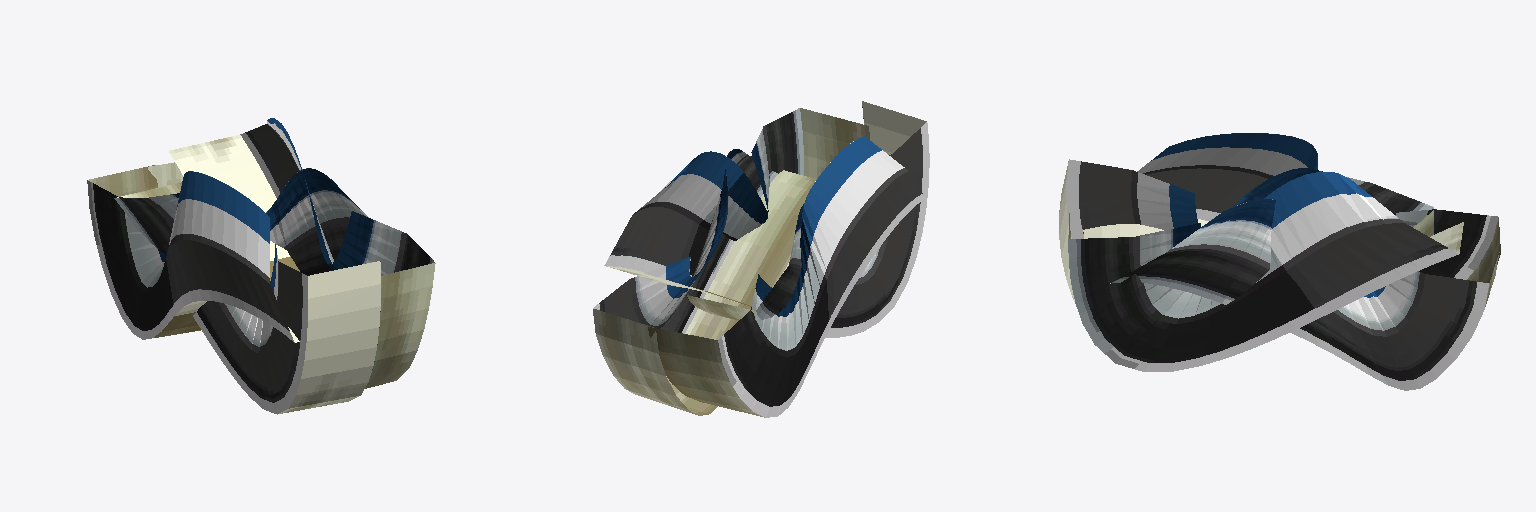
The picture shows the model from 3 angles: view 1: azimuth 30°, elevation 25°; view 2: azimuth 150°, elevation 25°; view 3: azimuth 270°, elevation 25°; orthographic projection.
Parts seen in each view (by area): view 1: polygon3, polygon2, polygon0, polygon1; view 2: polygon3, polygon1, polygon0, polygon2; view 3: polygon0, polygon1, polygon3, polygon2.
Part boxes in pixels (x1,y1,x2,y2): polygon3: (87, 165, 299, 342); polygon2: (114, 182, 380, 414); polygon0: (169, 118, 435, 388); polygon1: (148, 162, 368, 275); polygon3: (648, 136, 925, 417); polygon1: (593, 149, 816, 415); polygon0: (604, 108, 869, 306); polygon2: (686, 101, 929, 337); polygon0: (1068, 171, 1463, 371); polygon1: (1110, 199, 1499, 390); polygon3: (1083, 133, 1500, 282); polygon2: (1059, 159, 1433, 301).
Size of the model in its own units: 6.83 by 8.97 by 16.81.
Materials: 1 (1 with a texture image).